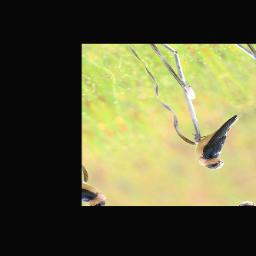Swallow: (176, 110, 256, 175)
